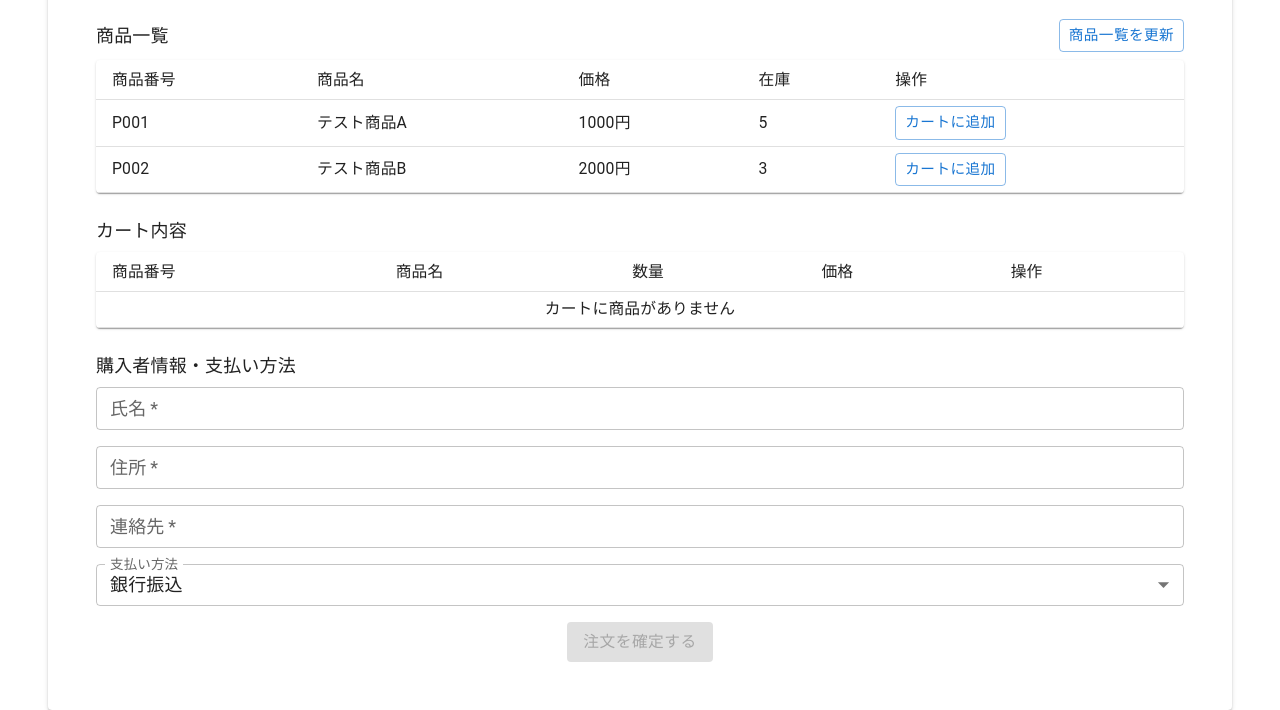
it: OrderTakerDashboard › 支払い方法の選択肢が正しく表示される
The width and height of the screenshot is (1280, 710).
(page scrolled)
Note: 支払い方法のSelectを開く
Press the mouse on the dropdown named "支払い方法" at coordinates (146, 584), box [110,574,183,595]
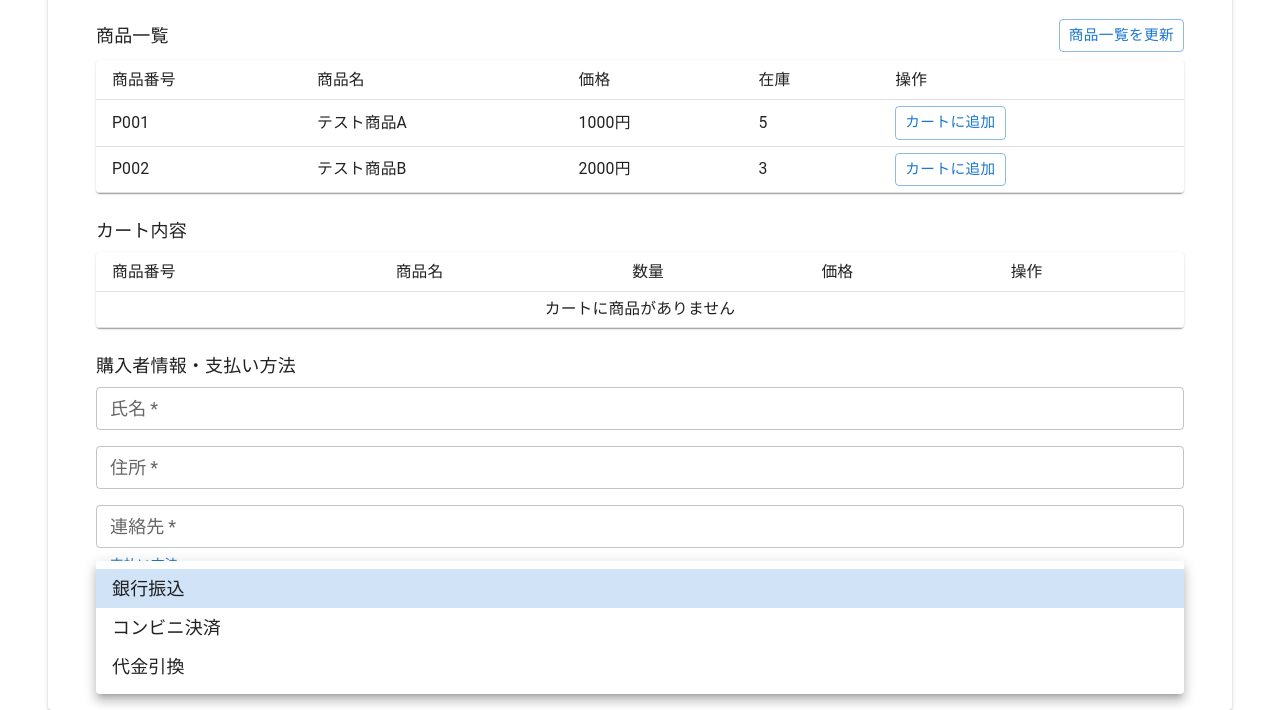
Check: the option "銀行振込" is shown, box [96,569,1184,608]
Check: the option "コンビニ決済" is shown, box [112,617,221,638]
Check: the option "代金引換" is shown, box [112,656,185,677]
